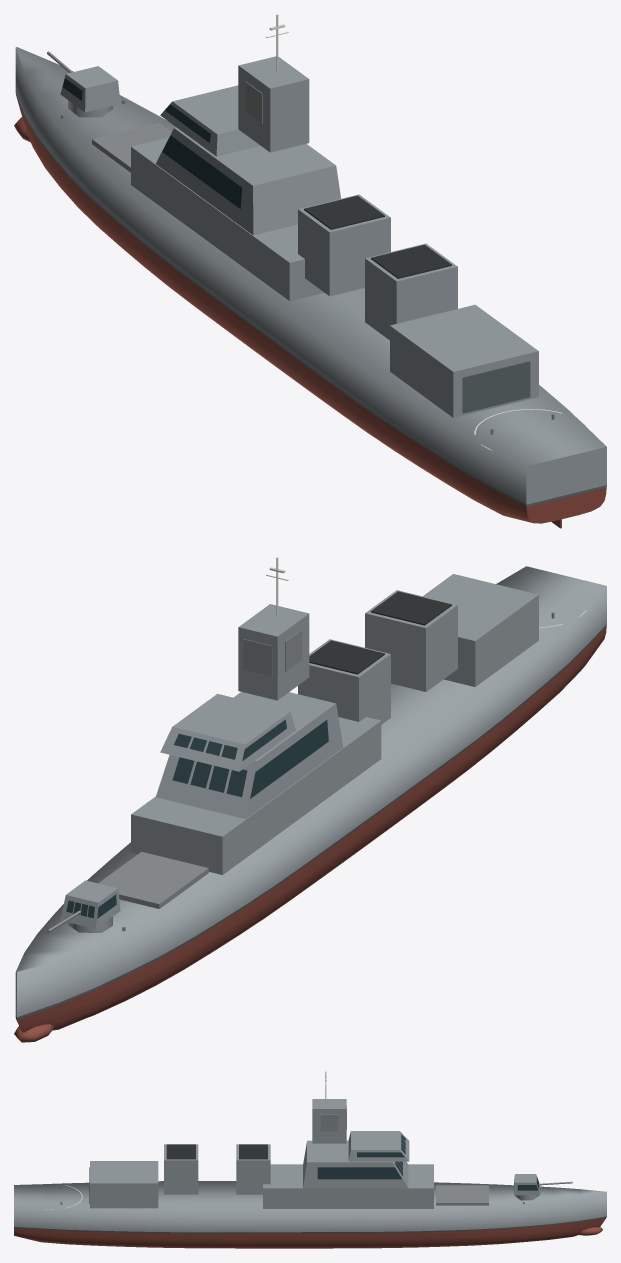
The model's file is destroyer-low.glb.
3 views of the same model, one above another, from view 1: azimuth 30°, elevation 25°; view 2: azimuth 150°, elevation 25°; view 3: azimuth 270°, elevation 25° (orthographic). The views are drawn at different scales.
Visible parts, largest first — view 1: hull, bottom, stripe, black, window, metal; view 2: hull, bottom, metal, window, black, stripe; view 3: hull, bottom, window, metal, stripe, black.
Part boxes in pixels (bbox=[...]): hull: bbox=[15, 47, 606, 504]; bottom: bbox=[14, 97, 606, 528]; stripe: bbox=[15, 93, 606, 506]; black: bbox=[304, 195, 451, 278]; window: bbox=[62, 78, 242, 209]; metal: bbox=[47, 51, 554, 434]; hull: bbox=[15, 566, 606, 1017]; bottom: bbox=[14, 627, 606, 1042]; metal: bbox=[47, 612, 554, 932]; window: bbox=[66, 719, 328, 918]; black: bbox=[309, 591, 451, 674]; stripe: bbox=[15, 624, 606, 1019]; hull: bbox=[14, 1099, 606, 1232]; bottom: bbox=[14, 1218, 605, 1248]; window: bbox=[317, 1134, 538, 1190]; metal: bbox=[60, 1106, 572, 1205]; stripe: bbox=[14, 1167, 606, 1233]; black: bbox=[166, 1144, 267, 1159].
Size of the model in its own units: 20 by 48.4 by 156.
